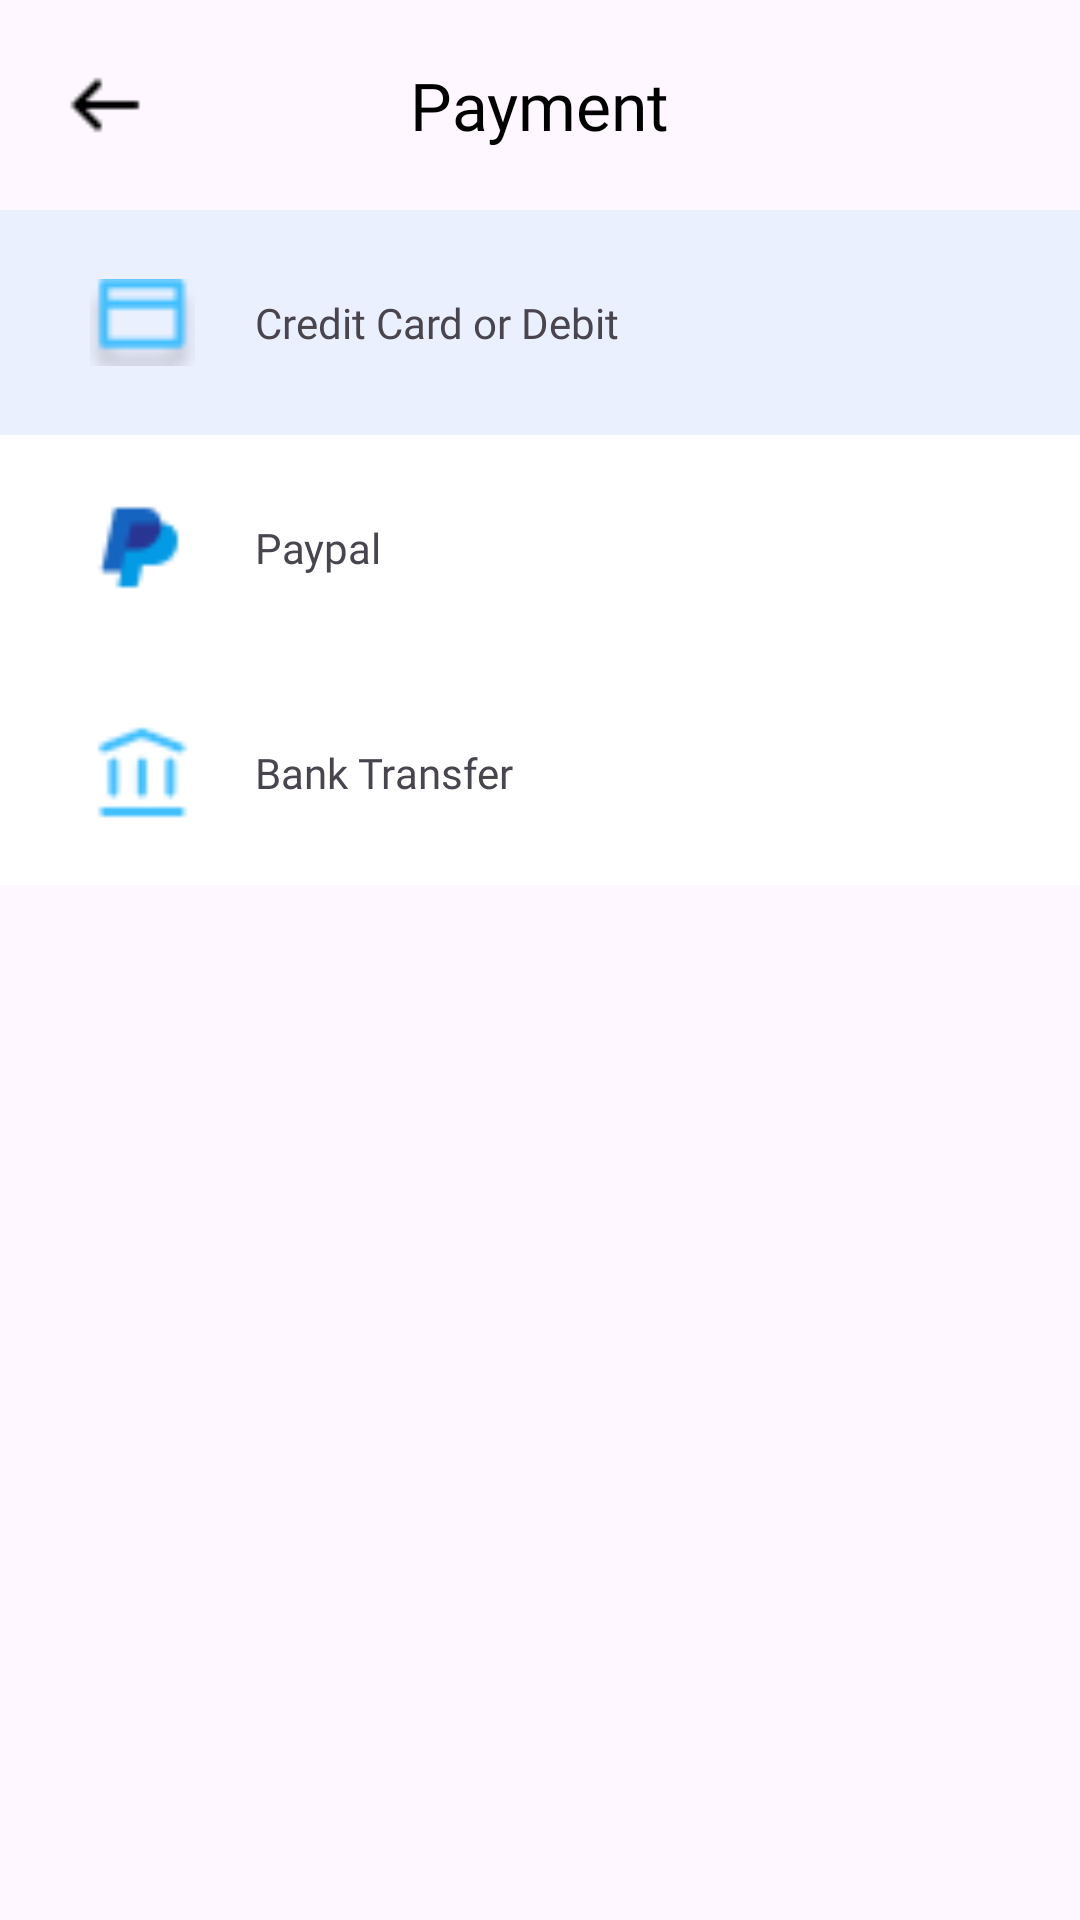

Locate icon controls on the screen. Image size 1080w x 1920h, boxes as (x1, y1, x2, y2).
back: (70, 78, 140, 132)
